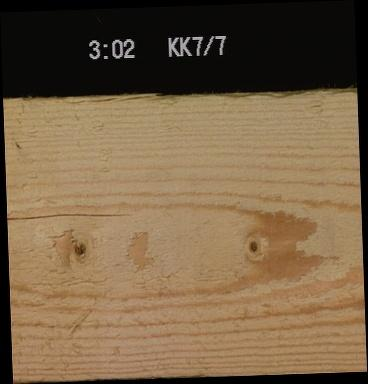small_knot: (246, 238, 258, 253)
sound_knot: (69, 235, 86, 264)
split: (6, 210, 133, 219)
